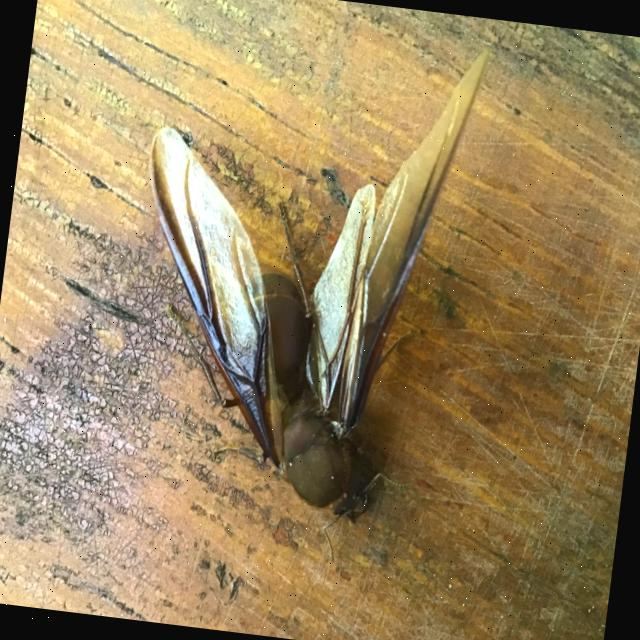Alive-Female-Alate: (100, 6, 492, 575)
